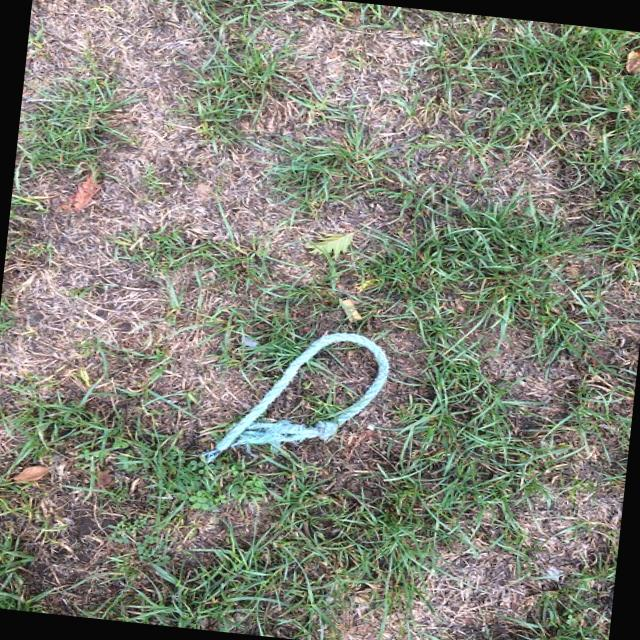Trash: (193, 316, 394, 480)
